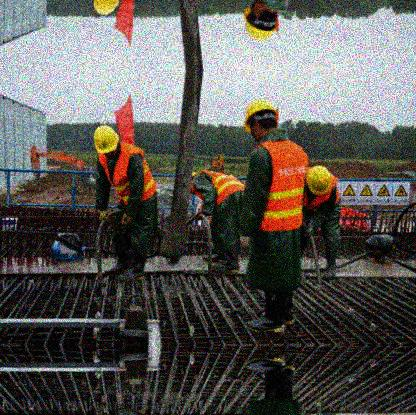helmet: (241, 100, 279, 142), (242, 1, 280, 41), (94, 125, 121, 161)
